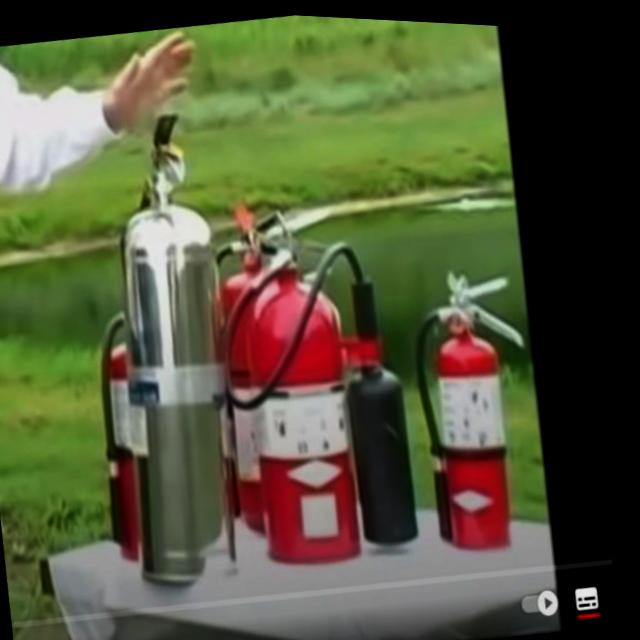FireExtinguisher: (67, 102, 278, 600), (191, 179, 445, 584), (396, 255, 567, 555), (77, 279, 225, 566)
